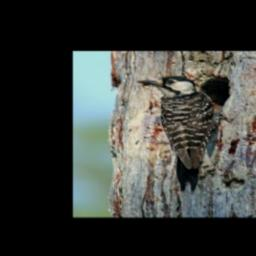Woodpecker: (135, 75, 235, 195)
